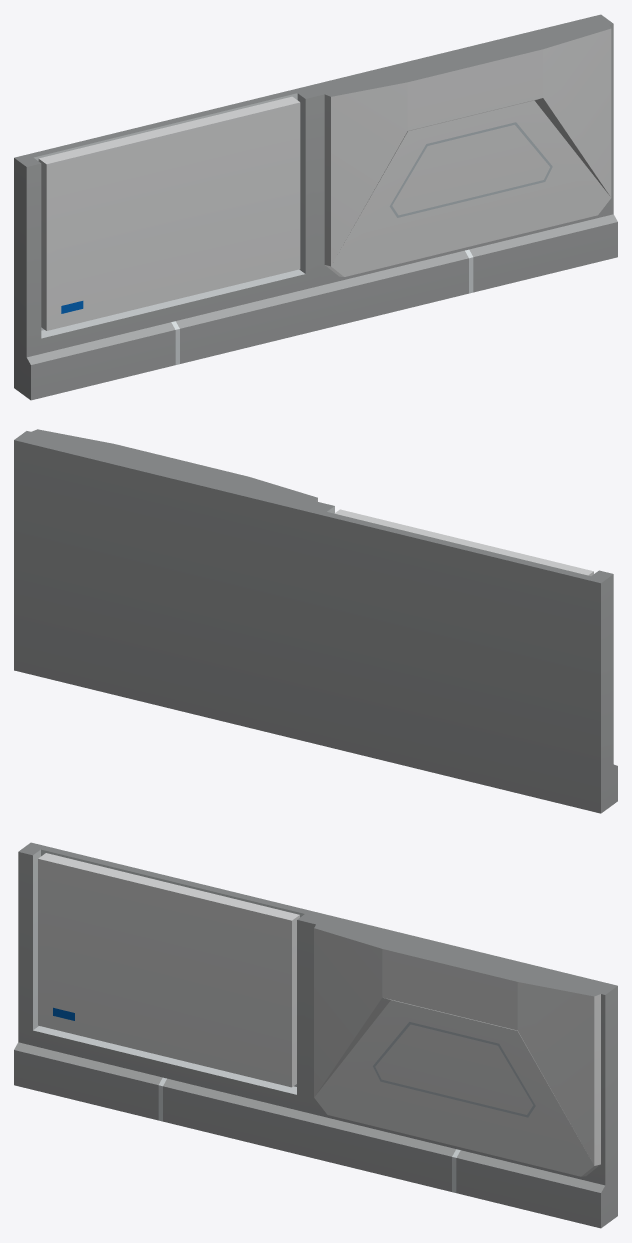
Rendered from Wall_type_A_035.fbx.
The picture shows the model from 3 angles, top to bottom: view 1: azimuth 30°, elevation 25°; view 2: azimuth 150°, elevation 25°; view 3: azimuth 330°, elevation 25°; orthographic projection.
Parts seen in each view (by area): view 1: Wall_type_A_035; view 2: Wall_type_A_035; view 3: Wall_type_A_035.
Part boxes in pixels (x1,y1,x2,y2): Wall_type_A_035: [14, 14, 617, 400]; Wall_type_A_035: [14, 429, 617, 813]; Wall_type_A_035: [14, 842, 617, 1228].
Size of the model in its own units: 400 by 25 by 150.
